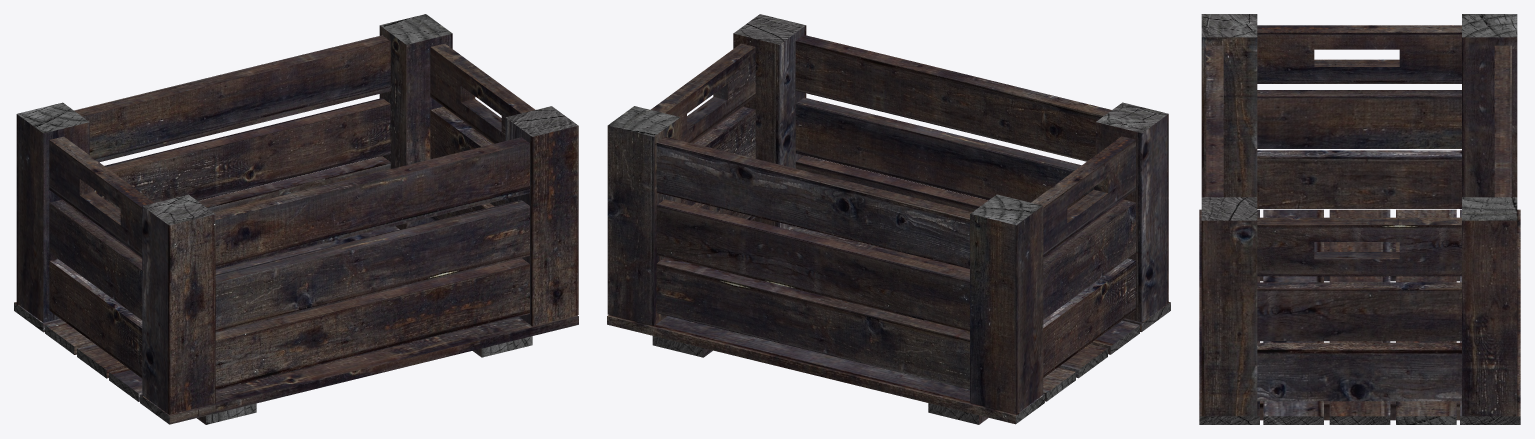
The model's file is caixa1.glb.
3 views of the same model, side by side, from view 1: azimuth 30°, elevation 25°; view 2: azimuth 150°, elevation 25°; view 3: azimuth 270°, elevation 25° (orthographic). The views are drawn at different scales.
Parts seen in each view (by area): view 1: Crate1_3; view 2: Crate1_3; view 3: Crate1_3.
Part boxes in pixels (bbox=[...]): Crate1_3: bbox=[14, 14, 578, 424]; Crate1_3: bbox=[607, 14, 1170, 424]; Crate1_3: bbox=[1199, 14, 1520, 424].
Bounding box in the file's own units: 0.8131 × 0.4036 × 0.5334.
Materials: 2 (2 with a texture image).
